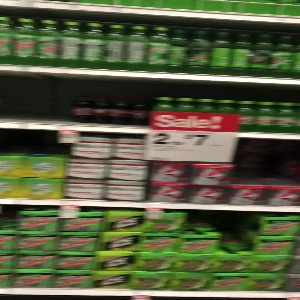void: (1, 71, 71, 128)
